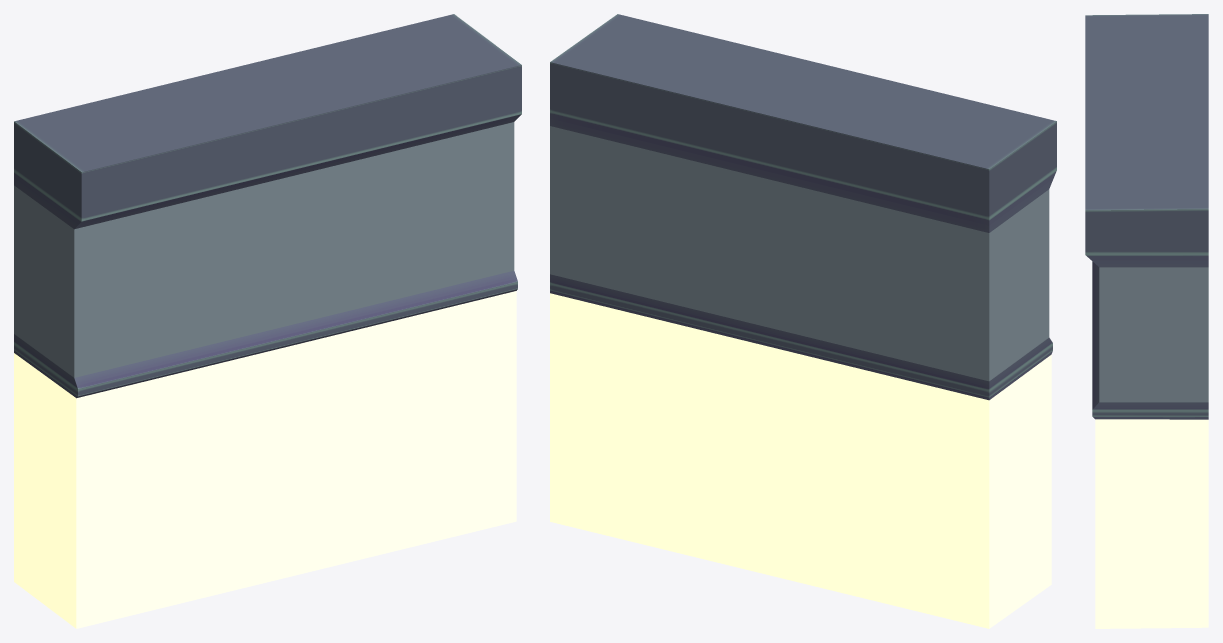
Rendered from celling1-1_low.fbx.
3 views of the same model, side by side, from view 1: azimuth 30°, elevation 25°; view 2: azimuth 150°, elevation 25°; view 3: azimuth 270°, elevation 25° (orthographic). The views are drawn at different scales.
Parts seen in each view (by area): view 1: celling1-1_low; view 2: celling1-1_low; view 3: celling1-1_low.
Part boxes in pixels (<box>): celling1-1_low: <box>14,14,521,628</box>; celling1-1_low: <box>550,14,1056,628</box>; celling1-1_low: <box>1085,14,1208,628</box>.
Bounding box in the file's own units: 150 × 150 × 40.
